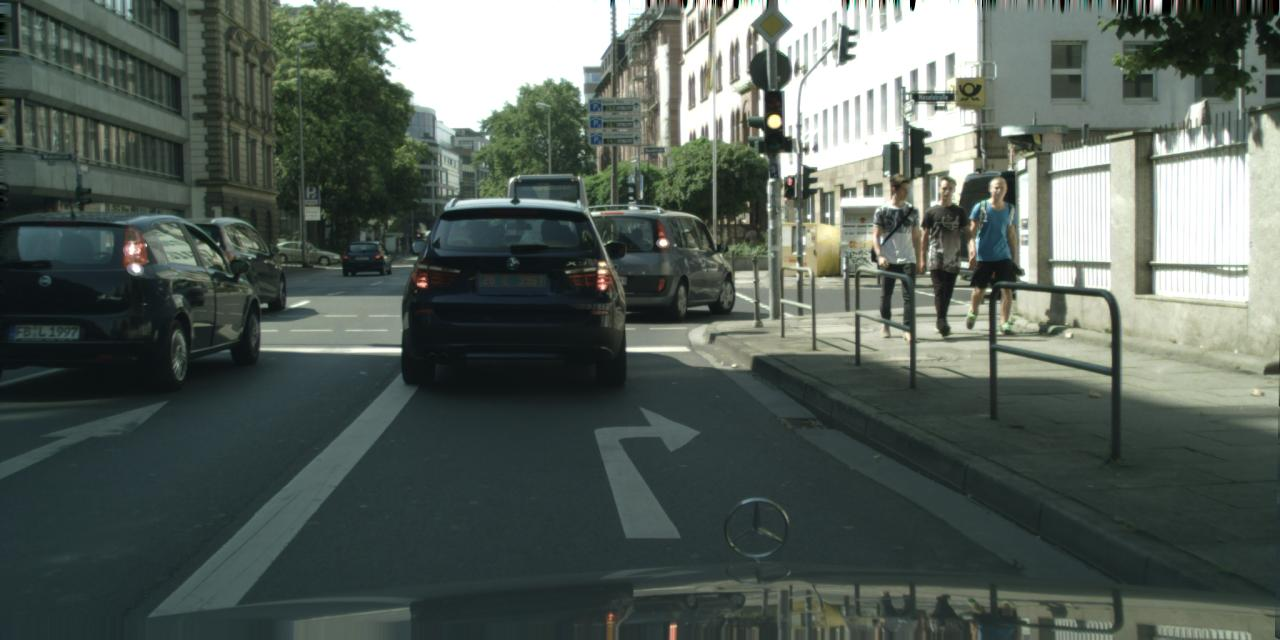ped: (862, 172, 931, 340), (912, 176, 978, 337), (960, 176, 1024, 330), (395, 236, 402, 253)
